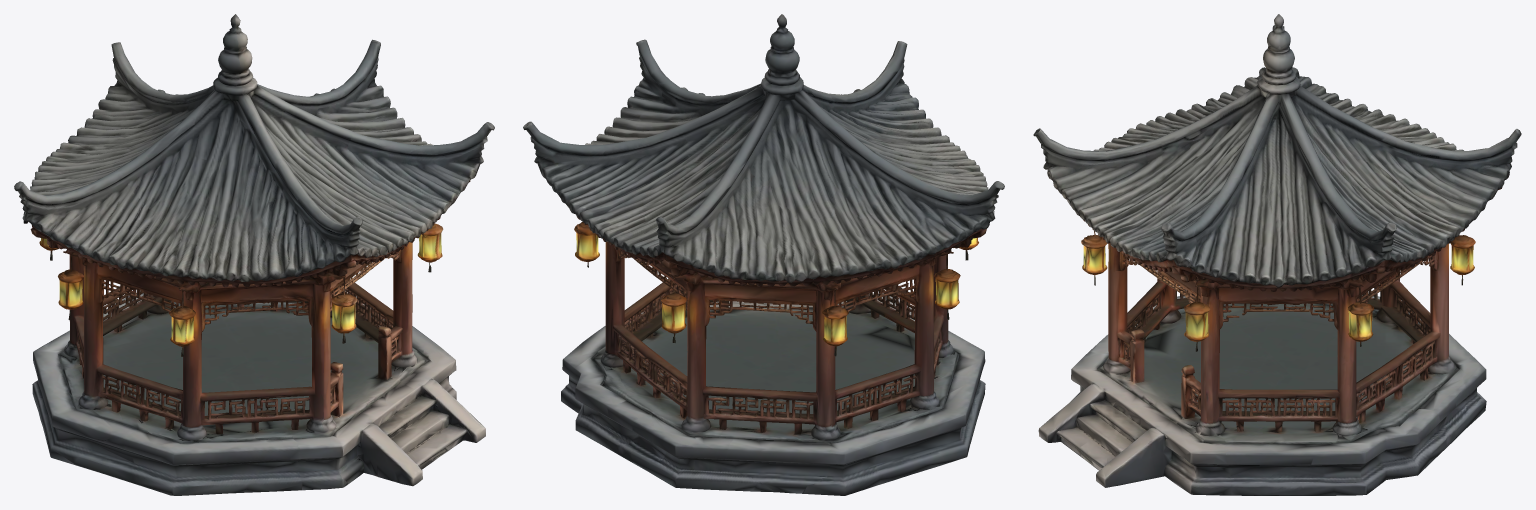
Rendered from moon_pavilion.glb.
3 renders of one model, left to right at view 1: azimuth 30°, elevation 25°; view 2: azimuth 150°, elevation 25°; view 3: azimuth 270°, elevation 25°, orthographic.
Visible parts, largest first — view 1: tripo_node_81176a39-49c2-4d2a-ab05-e82d9e5997be; view 2: tripo_node_81176a39-49c2-4d2a-ab05-e82d9e5997be; view 3: tripo_node_81176a39-49c2-4d2a-ab05-e82d9e5997be.
Part boxes in pixels (x1=…): tripo_node_81176a39-49c2-4d2a-ab05-e82d9e5997be: x1=14, y1=14, x2=494, y2=495; tripo_node_81176a39-49c2-4d2a-ab05-e82d9e5997be: x1=523, y1=14, x2=1004, y2=495; tripo_node_81176a39-49c2-4d2a-ab05-e82d9e5997be: x1=1033, y1=14, x2=1521, y2=495.
Size of the model in its own units: 0.9768 by 0.8779 by 0.9821.
Materials: 1 (1 with a texture image).
